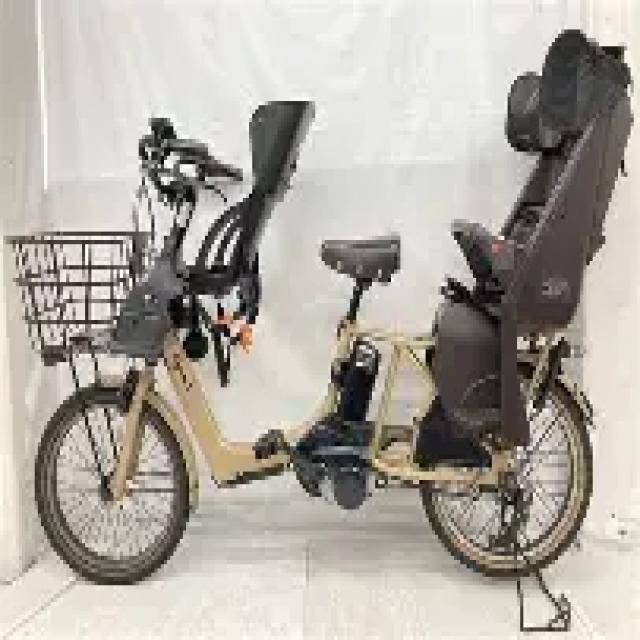basket: (6, 224, 150, 366)
battery: (336, 340, 383, 436)
childseat: (432, 30, 635, 478), (159, 95, 325, 369)
